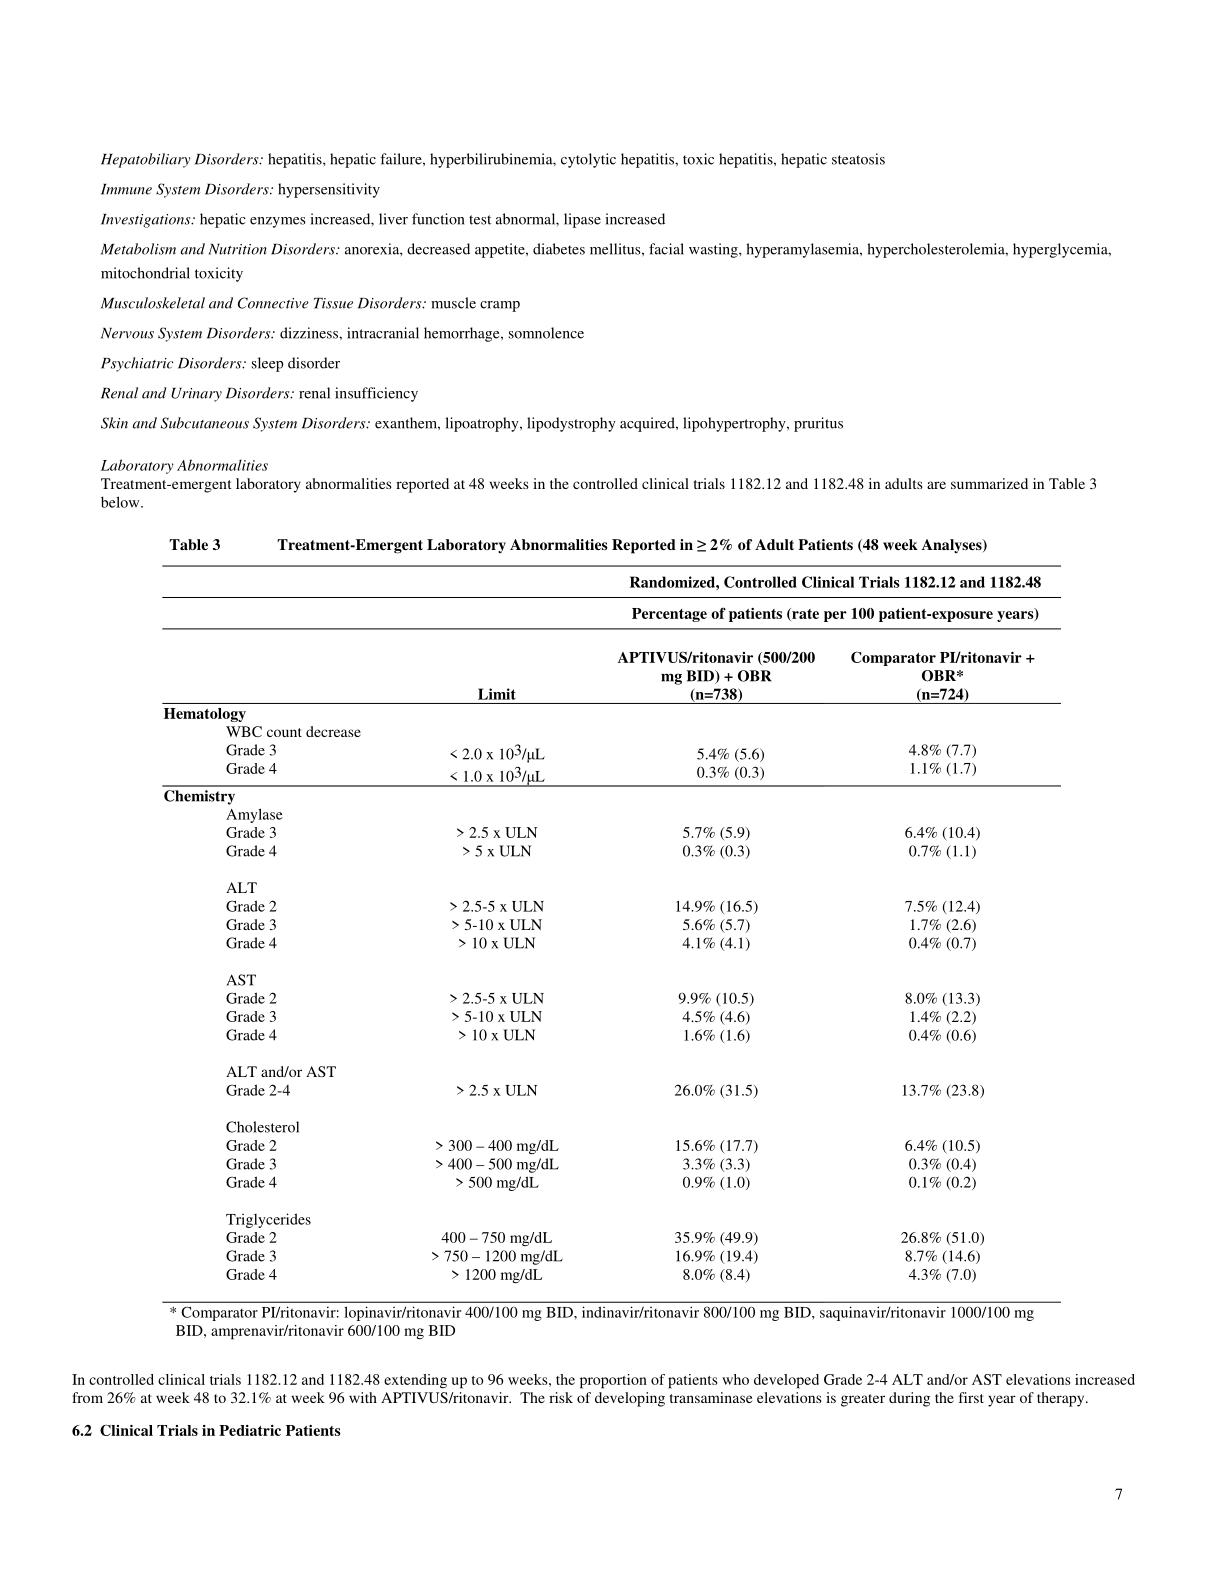partial_lined: (159, 562, 1063, 1306)
